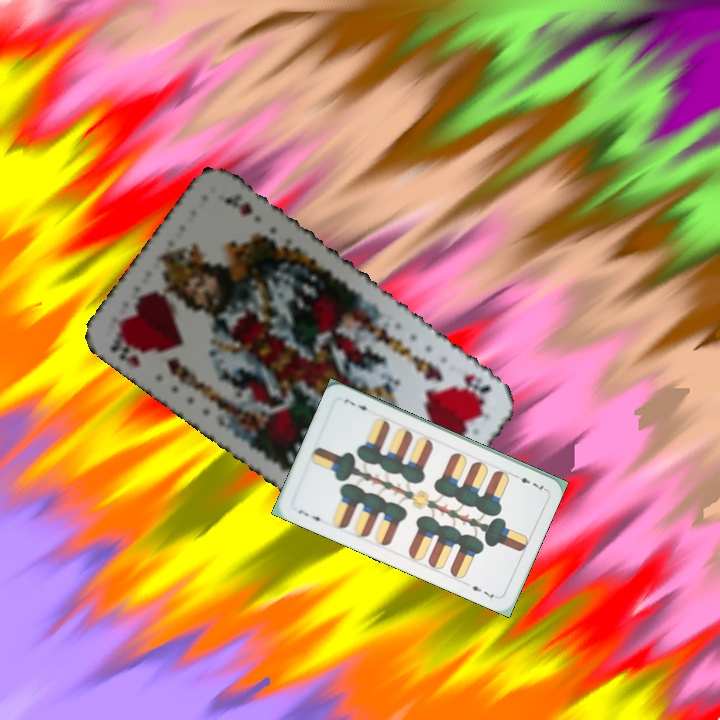E7: (509, 470, 548, 494), (294, 506, 327, 527)
HK: (105, 332, 149, 371), (459, 370, 494, 397)
